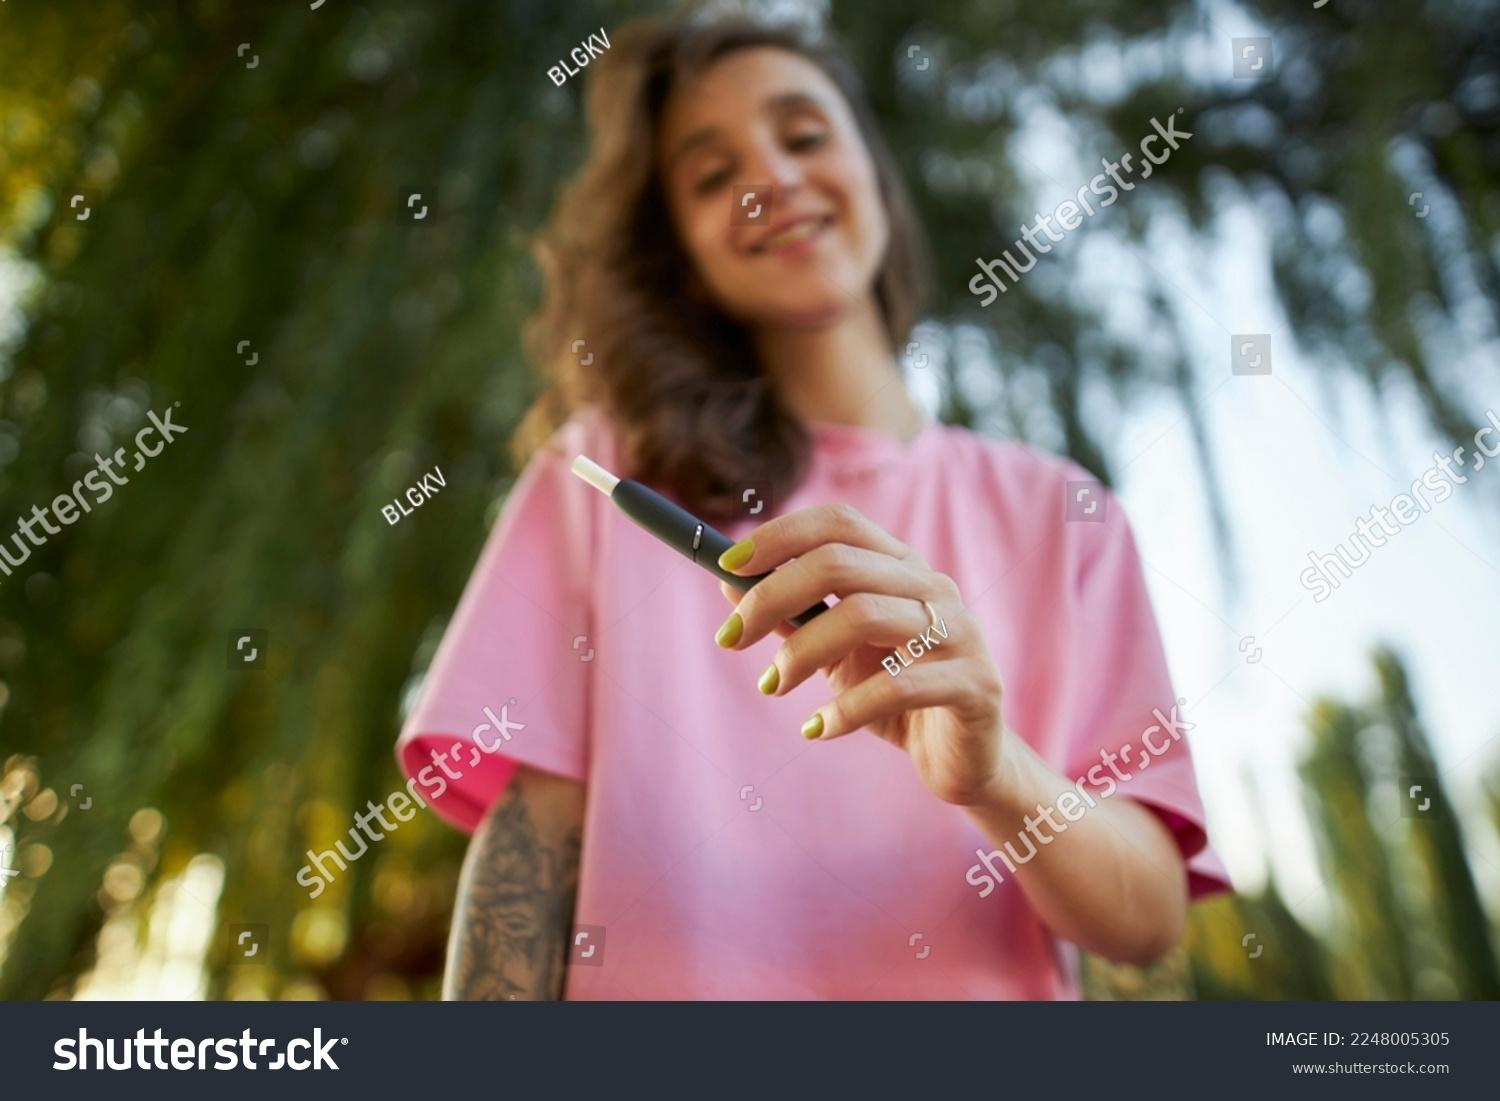iqos: (571, 456, 767, 592)
